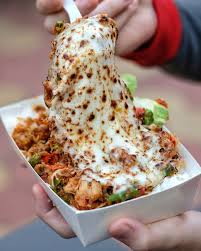ayam_geprek: (37, 23, 178, 188)
